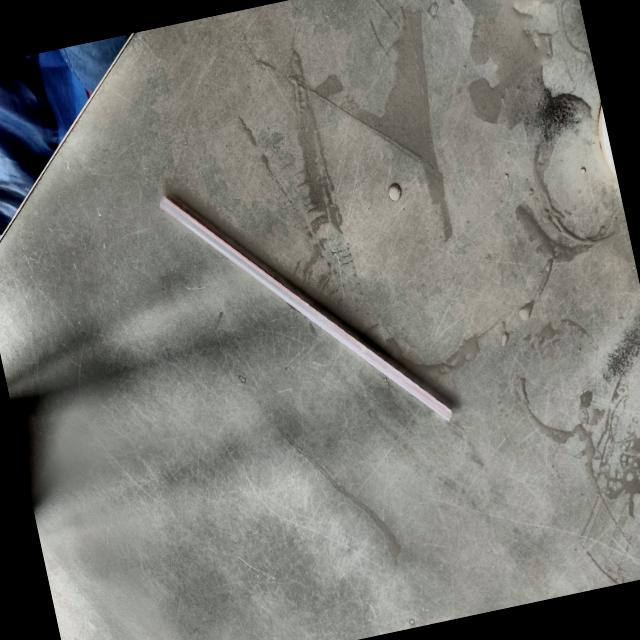plastic straw: (160, 196, 451, 419)
